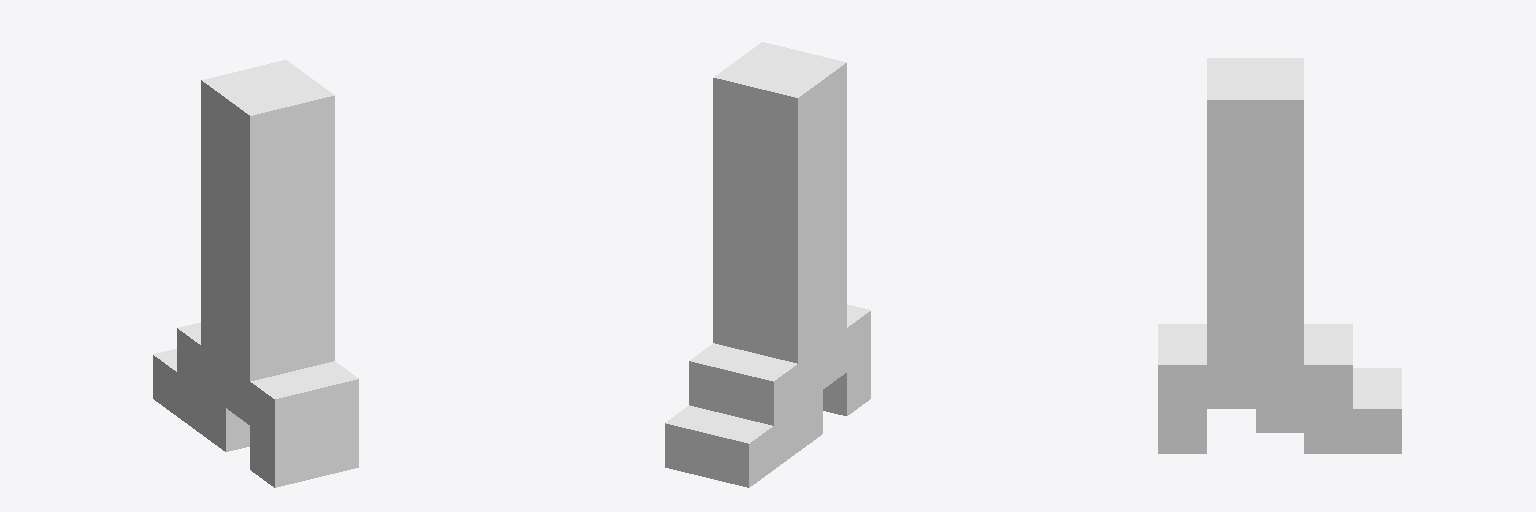
The model's file is JAMBE-R.obj.
The picture shows the model from 3 angles: view 1: azimuth 30°, elevation 25°; view 2: azimuth 150°, elevation 25°; view 3: azimuth 270°, elevation 25°; orthographic projection.
Visible parts, largest first — view 1: object 1; view 2: object 1; view 3: object 1.
Boxes of the visible parts, box(x1,y1,x2,y2) form: object 1: box(153, 60, 358, 487); object 1: box(665, 42, 870, 487); object 1: box(1158, 58, 1401, 453).
Bounding box in the file's own units: 0.2 × 0.8 × 0.5.